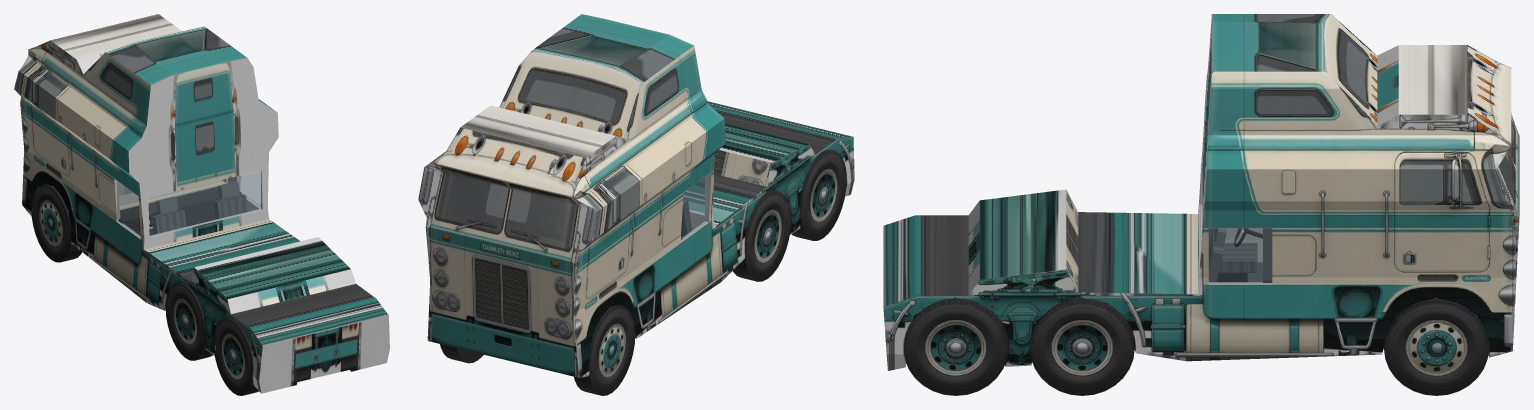
Rendered from semi_truck.glb.
The picture shows the model from 3 angles, left to right: view 1: azimuth 30°, elevation 25°; view 2: azimuth 150°, elevation 25°; view 3: azimuth 270°, elevation 25°; orthographic projection. The views are drawn at different scales.
Parts seen in each view (by area): view 1: semi_truck, semi_truck_cabin, wheel_FL, wheel_M1L, wheel_BL; view 2: semi_truck, wheel_FL, wheel_M1L, wheel_BL, semi_truck_cabin, wheel_FR; view 3: semi_truck, wheel_FR, wheel_M1R, wheel_BR, semi_truck_cabin.
Boxes of the visible parts, x1,y1,x2,y2 form: semi_truck: [14, 14, 389, 393]; semi_truck_cabin: [117, 171, 262, 237]; wheel_FL: [31, 184, 81, 262]; wheel_M1L: [165, 282, 212, 360]; wheel_BL: [213, 318, 258, 395]; semi_truck: [418, 14, 854, 377]; wheel_FL: [574, 305, 635, 395]; wheel_M1L: [733, 191, 790, 281]; wheel_BL: [792, 150, 846, 240]; semi_truck_cabin: [681, 175, 707, 241]; wheel_FR: [440, 344, 483, 363]; semi_truck: [883, 14, 1519, 370]; wheel_FR: [1384, 297, 1488, 395]; wheel_M1R: [1030, 297, 1134, 395]; wheel_BR: [903, 297, 1007, 395]; semi_truck_cabin: [1199, 174, 1272, 283].
Bounding box in the file's own units: 2.49 × 3.81 × 6.98.
Materials: 12 (4 with a texture image).
